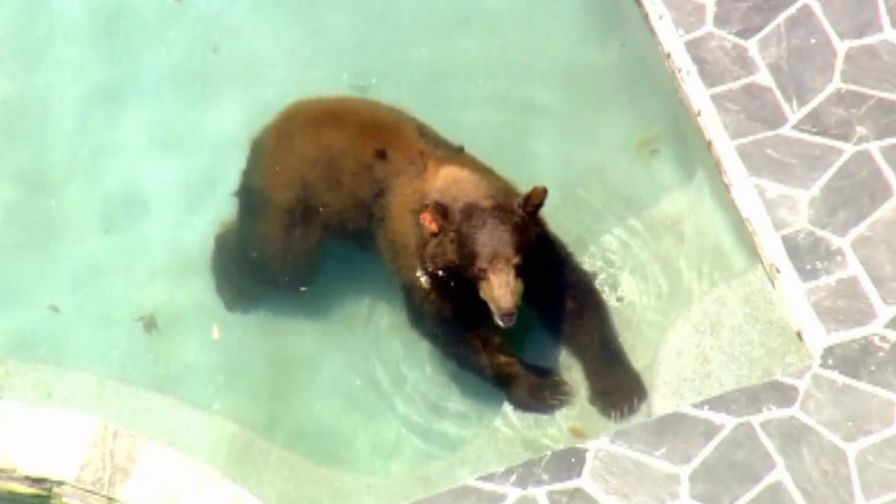bear: (415, 182, 556, 334)
